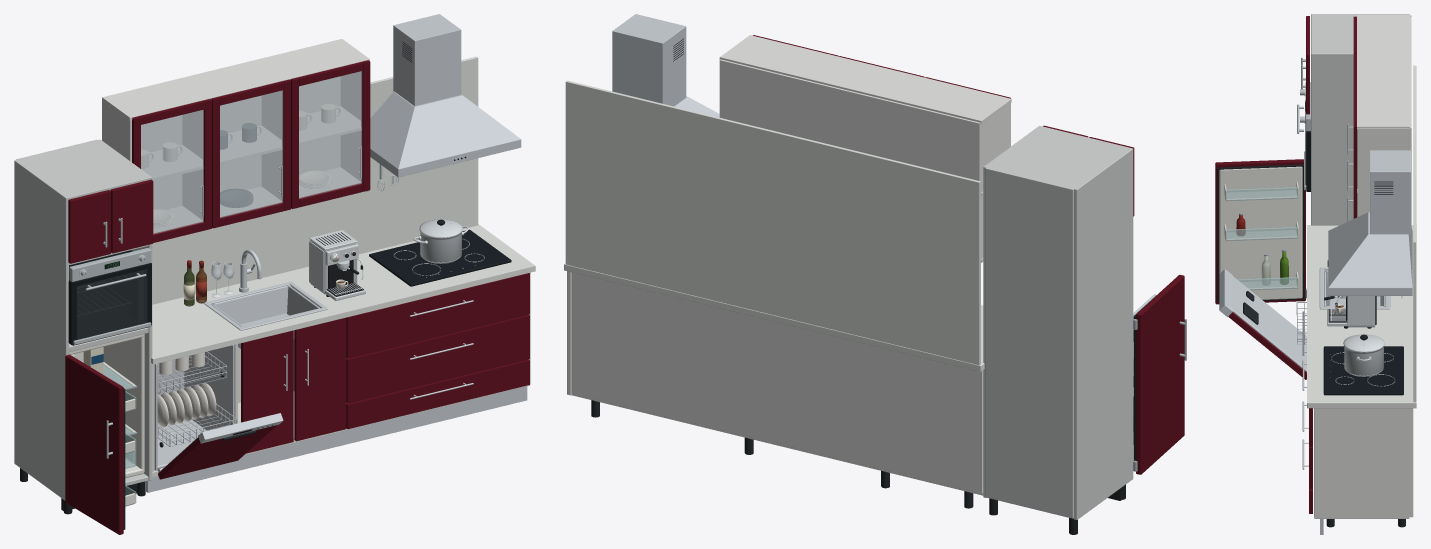
Rendered from mutfak.glb.
3 views of the same model, side by side, from view 1: azimuth 30°, elevation 25°; view 2: azimuth 150°, elevation 25°; view 3: azimuth 270°, elevation 25° (orthographic). The views are drawn at different scales.
Visible parts, largest first — view 1: Mutfak - Bordo lake - cok kat parlak cila, Mutfak - Tezgah - cilali beyaz kuvars, Mutfak - Fircalanmis paslanmaz celik, Mutfak - Govde - sicak beyaz melamin, Mutfak - Kule - acik gri saten dis panel, Mutfak - Buzlu cam - mavi gri, Mutfak - Kule - parlak bordo lake, Mutfak - Porselen - kirik beyaz, Mutfak - Kule - buzdolabi beyaz plastik, Mutfak - Kule - firin fume cam, Mutfak - Siyah cam seramik, Mutfak - Detay - parlak krom (+7 smaller); view 2: Mutfak - Tezgah - cilali beyaz kuvars, Mutfak - Govde - sicak beyaz melamin, Mutfak - Kule - acik gri saten dis panel, Mutfak - Kule - parlak bordo lake, Mutfak - Fircalanmis paslanmaz celik, Mutfak - Kule - siyah fitil, Mutfak - Antrasit conta ve ayak; view 3: Mutfak - Govde - sicak beyaz melamin, Mutfak - Fircalanmis paslanmaz celik, Mutfak - Kule - buzdolabi beyaz plastik, Mutfak - Kule - acik gri saten dis panel, Mutfak - Tezgah - cilali beyaz kuvars, Mutfak - Siyah cam seramik, Mutfak - Kule - buzdolabi raf cami, Mutfak - Bordo lake - cok kat parlak cila, Mutfak - Detay - parlak krom, Mutfak - Kule - parlak bordo lake, Mutfak - Kule - siyah fitil, Mutfak - Detay - saten paslanmaz celik (+5 smaller).
Part boxes in pixels (box(x1,y1,x2,y2)): Mutfak - Bordo lake - cok kat parlak cila: box(132, 60, 529, 479); Mutfak - Tezgah - cilali beyaz kuvars: box(151, 56, 535, 364); Mutfak - Fircalanmis paslanmaz celik: box(146, 14, 527, 492); Mutfak - Govde - sicak beyaz melamin: box(102, 39, 530, 477); Mutfak - Kule - acik gri saten dis panel: box(14, 139, 152, 500); Mutfak - Buzlu cam - mavi gri: box(141, 71, 362, 234); Mutfak - Kule - parlak bordo lake: box(65, 179, 153, 534); Mutfak - Porselen - kirik beyaz: box(141, 104, 340, 427); Mutfak - Kule - buzdolabi beyaz plastik: box(69, 334, 144, 506); Mutfak - Kule - firin fume cam: box(76, 269, 147, 339); Mutfak - Siyah cam seramik: box(232, 156, 511, 435); Mutfak - Detay - parlak krom: box(309, 175, 468, 300); Mutfak - Tezgah - cilali beyaz kuvars: box(564, 80, 984, 371); Mutfak - Govde - sicak beyaz melamin: box(567, 35, 1011, 495); Mutfak - Kule - acik gri saten dis panel: box(983, 126, 1133, 519); Mutfak - Kule - parlak bordo lake: box(1043, 125, 1184, 474); Mutfak - Fircalanmis paslanmaz celik: box(612, 14, 719, 117); Mutfak - Kule - siyah fitil: box(989, 314, 1135, 534); Mutfak - Antrasit conta ve ayak: box(591, 38, 973, 508); Mutfak - Govde - sicak beyaz melamin: box(1314, 15, 1413, 518); Mutfak - Fircalanmis paslanmaz celik: box(1219, 124, 1412, 534); Mutfak - Kule - buzdolabi beyaz plastik: box(1219, 166, 1302, 299); Mutfak - Kule - acik gri saten dis panel: box(1311, 14, 1411, 225); Mutfak - Tezgah - cilali beyaz kuvars: box(1307, 65, 1416, 408); Mutfak - Siyah cam seramik: box(1323, 260, 1403, 395); Mutfak - Kule - buzdolabi raf cami: box(1225, 187, 1298, 290); Mutfak - Bordo lake - cok kat parlak cila: box(1228, 16, 1357, 513); Mutfak - Detay - parlak krom: box(1327, 296, 1402, 375); Mutfak - Kule - parlak bordo lake: box(1215, 16, 1309, 304); Mutfak - Kule - siyah fitil: box(1217, 164, 1304, 302); Mutfak - Detay - saten paslanmaz celik: box(1337, 296, 1384, 376).
Bounding box in the file's own units: 3.28 × 2.4 × 1.27.
